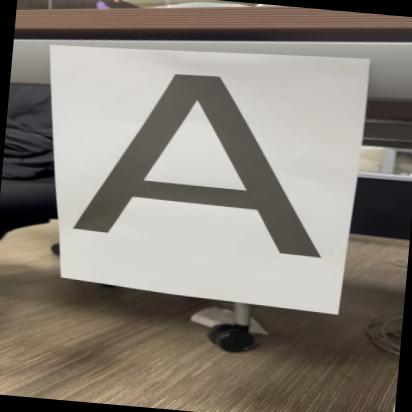seat: (59, 53, 357, 265)
